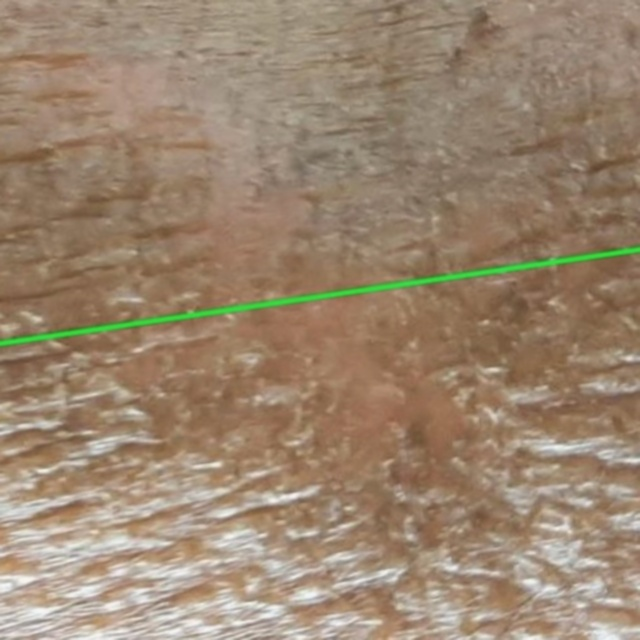Seborrheic Dermatitis: (0, 249, 639, 639)
